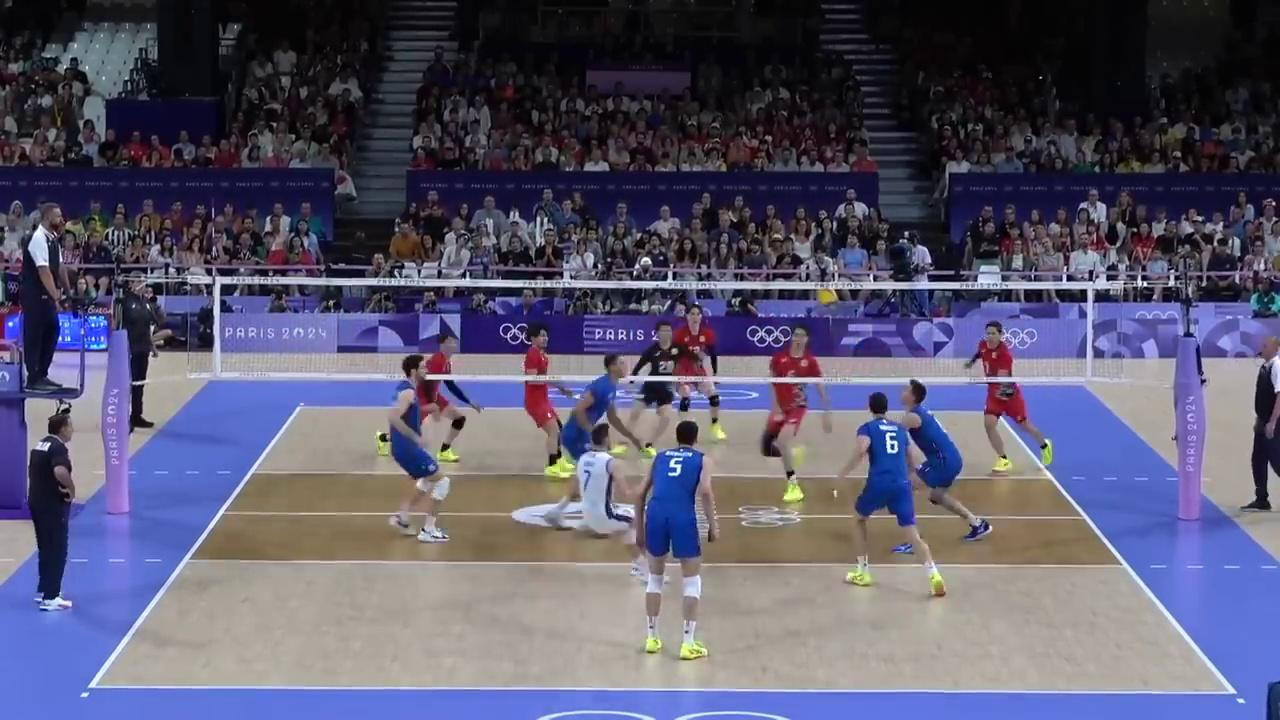ball: (816, 289, 838, 307)
